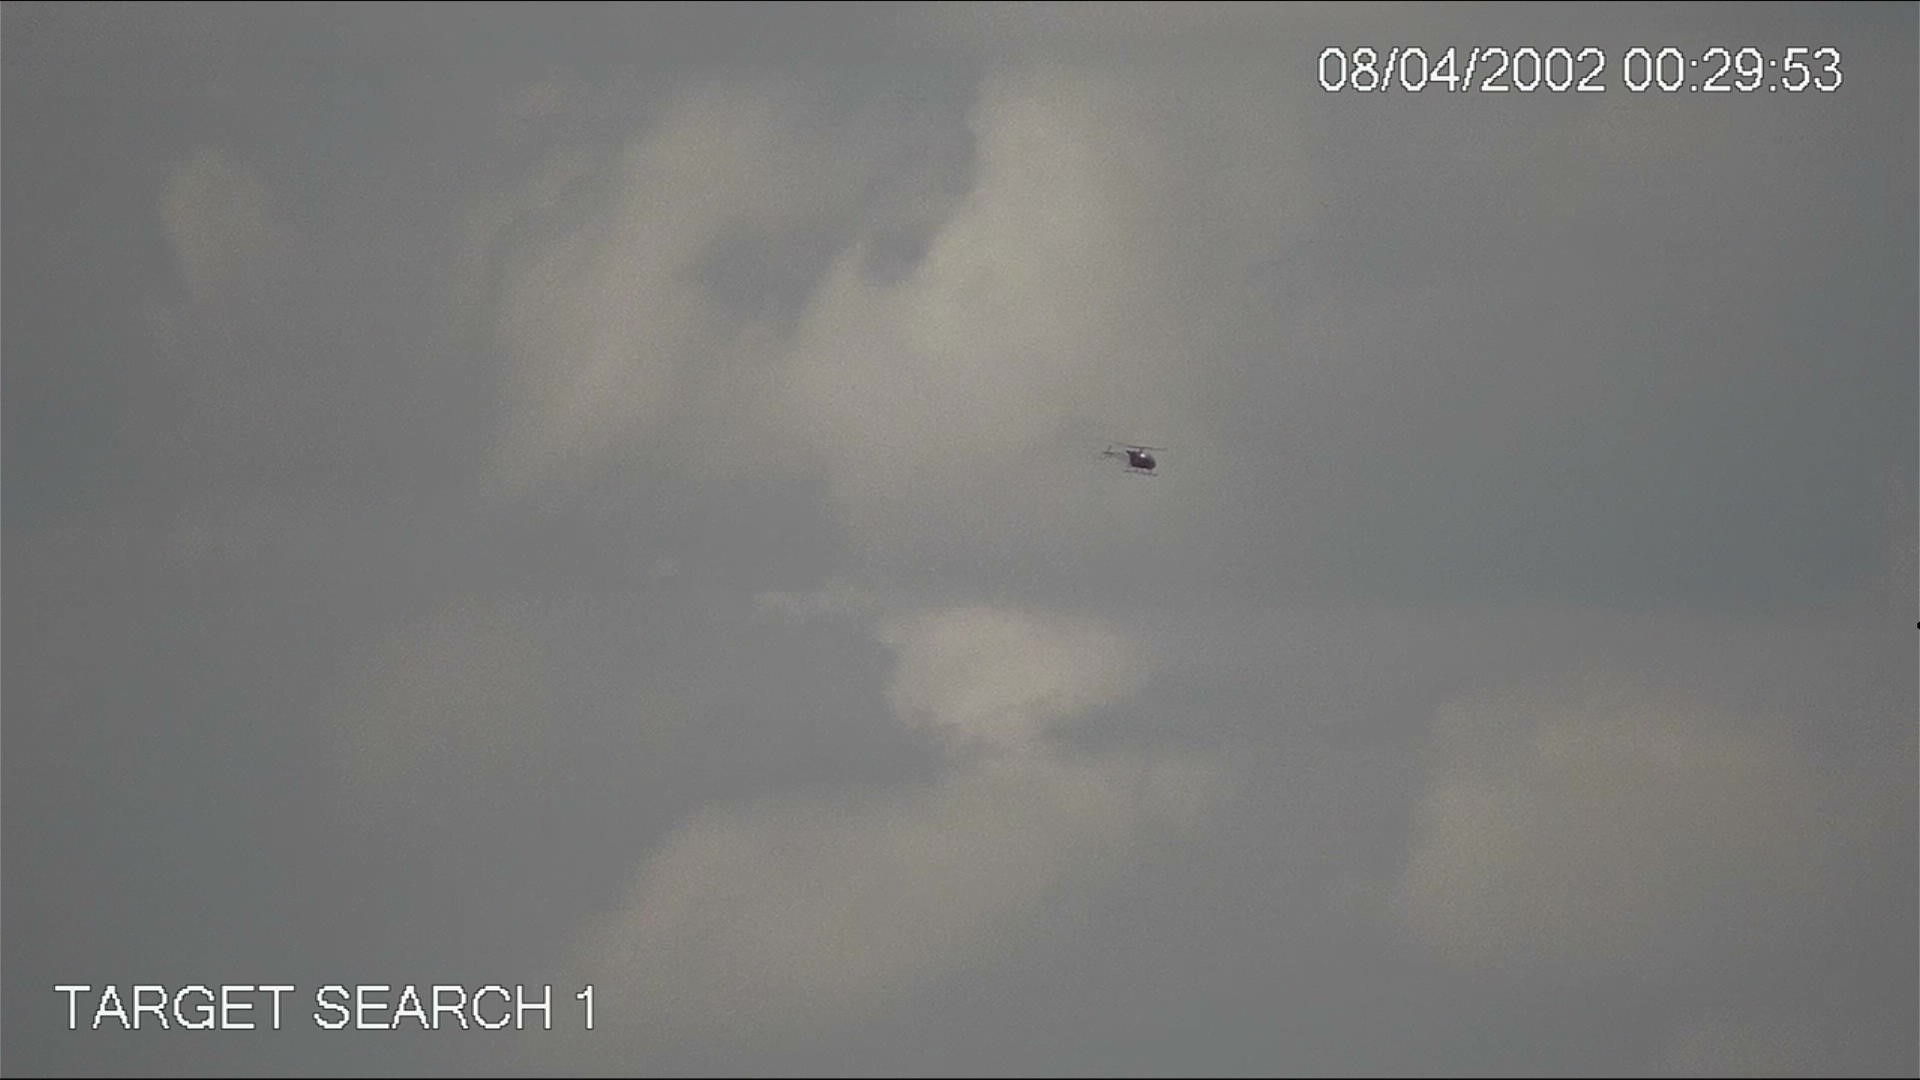SU_30: (1102, 440, 1171, 479)
